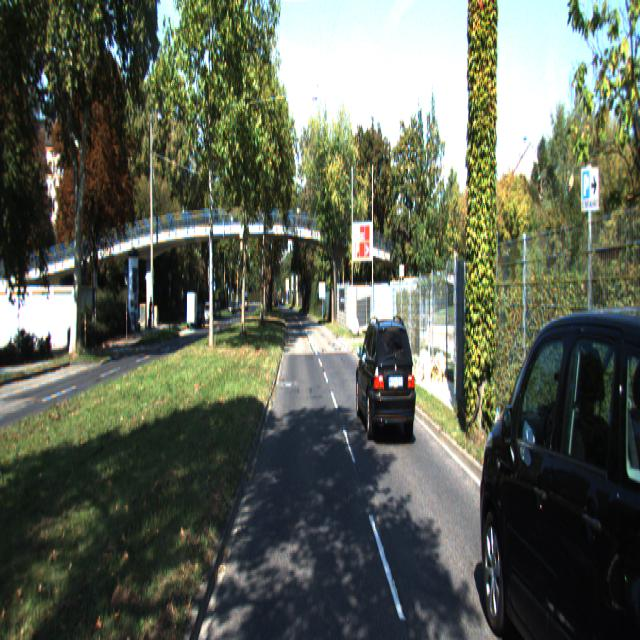Car: (470, 268, 640, 638), (354, 316, 416, 447)
